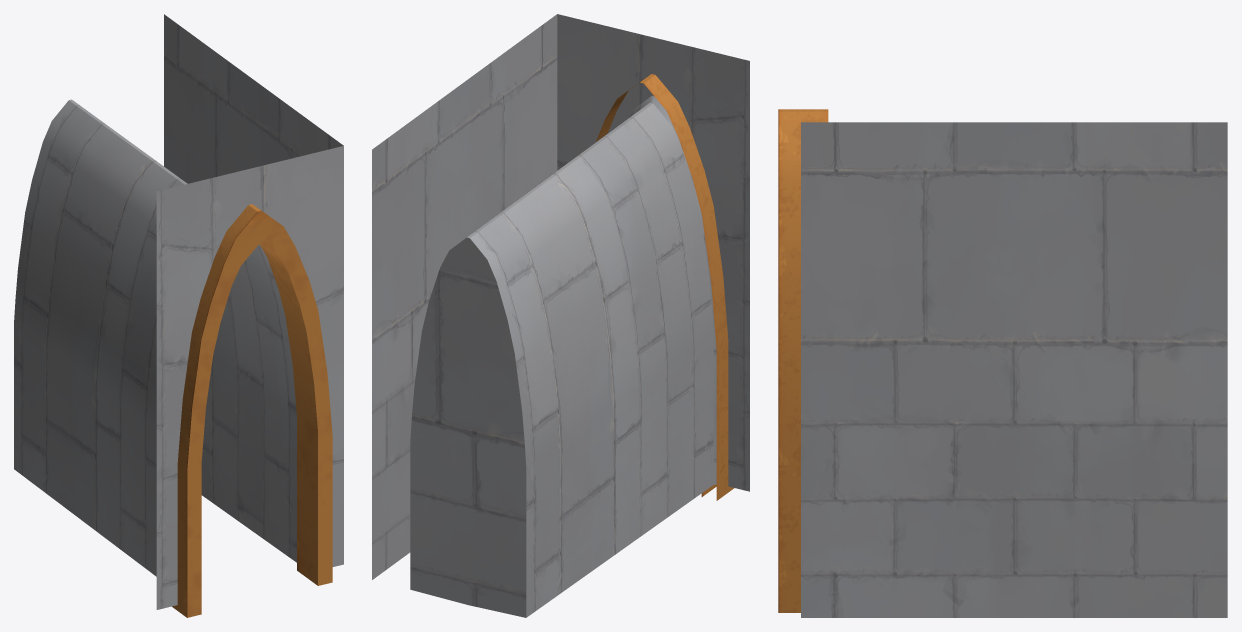
Rendered from SM_Exit_Garden.fbx.
3 views of the same model, side by side, from view 1: azimuth 30°, elevation 25°; view 2: azimuth 150°, elevation 25°; view 3: azimuth 270°, elevation 25° (orthographic). The views are drawn at different scales.
Parts seen in each view (by area): view 1: SM_Exit_Garden; view 2: SM_Exit_Garden; view 3: SM_Exit_Garden.
Boxes of the visible parts, x1=… form: SM_Exit_Garden: x1=14, y1=14, x2=343, y2=617; SM_Exit_Garden: x1=372, y1=14, x2=749, y2=617; SM_Exit_Garden: x1=778, y1=109, x2=1227, y2=617.
Size of the model in its own units: 4 by 8.67 by 7.02.
